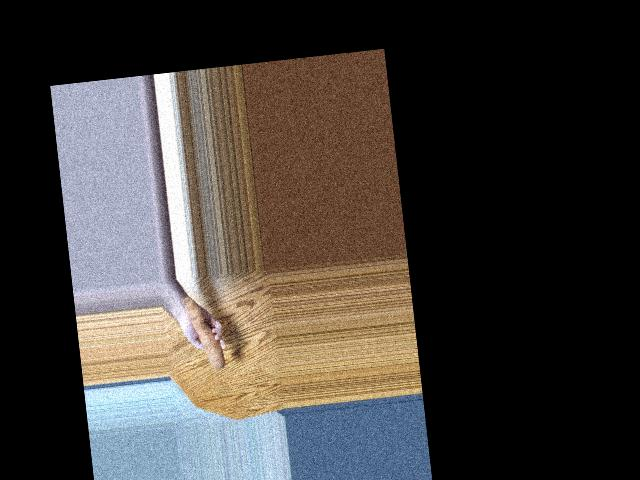sweet_potato: (183, 295, 227, 373)
